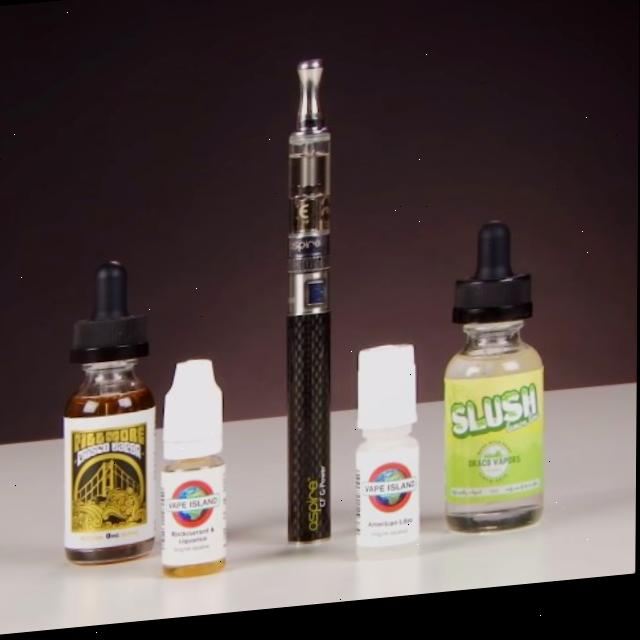vape: (287, 63, 333, 554)
